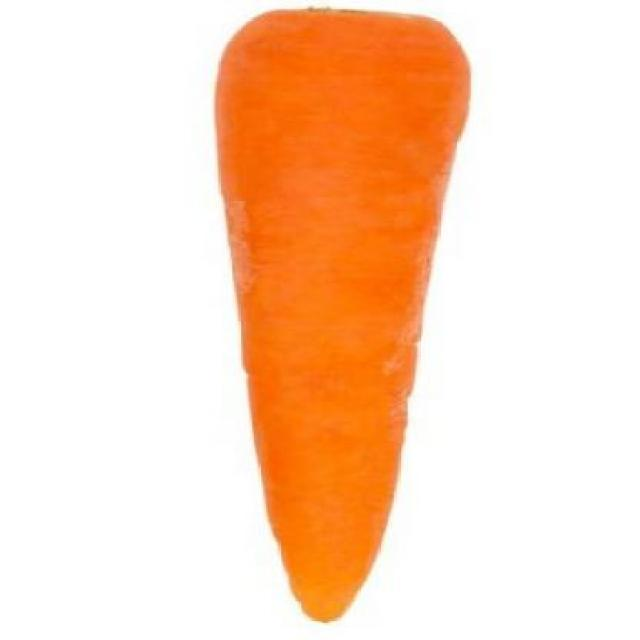carrot: (204, 4, 480, 624)
